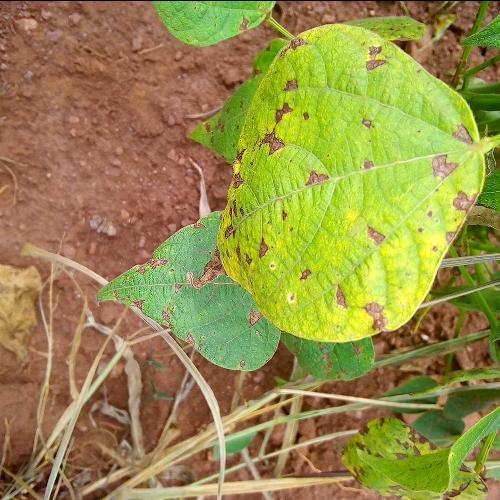mozaik: (229, 28, 452, 316)
